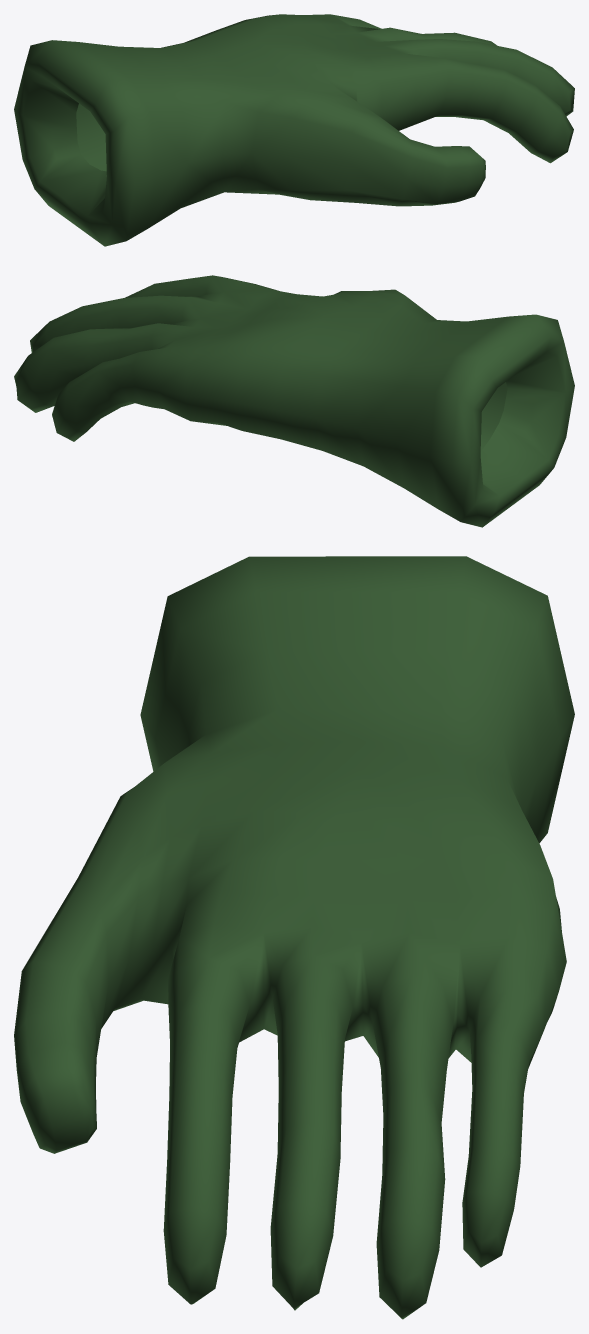
Rendered from glove.dae.
3 views of the same model, one above another, from view 1: azimuth 30°, elevation 25°; view 2: azimuth 150°, elevation 25°; view 3: azimuth 270°, elevation 25° (orthographic). The views are drawn at different scales.
Visible parts, largest first — view 1: Glove; view 2: Glove; view 3: Glove.
Part boxes in pixels (x1,y1,x2,y2): Glove: (14, 14, 574, 246); Glove: (14, 275, 574, 527); Glove: (14, 556, 574, 1319).
Size of the model in its own units: 0.0987 by 0.0498 by 0.0335.
